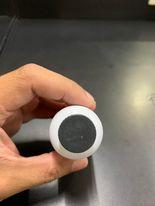-Bottle-: (49, 105, 104, 160)
